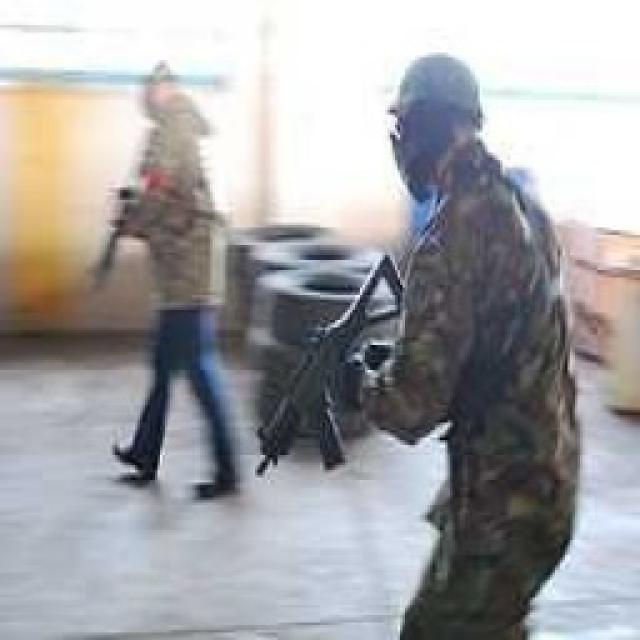knife: (242, 235, 406, 530)
